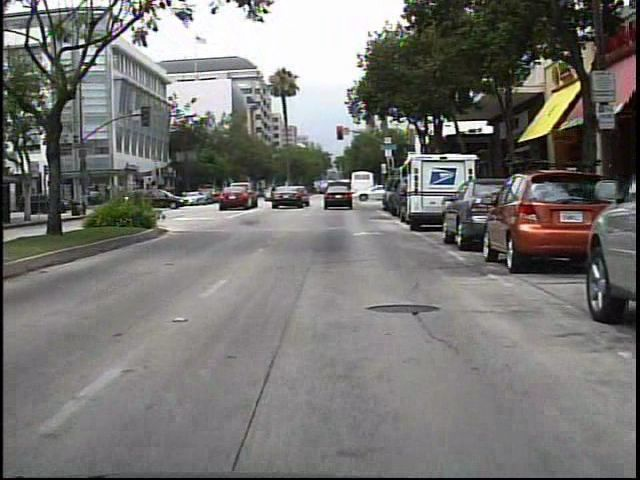person: (265, 182, 280, 206)
